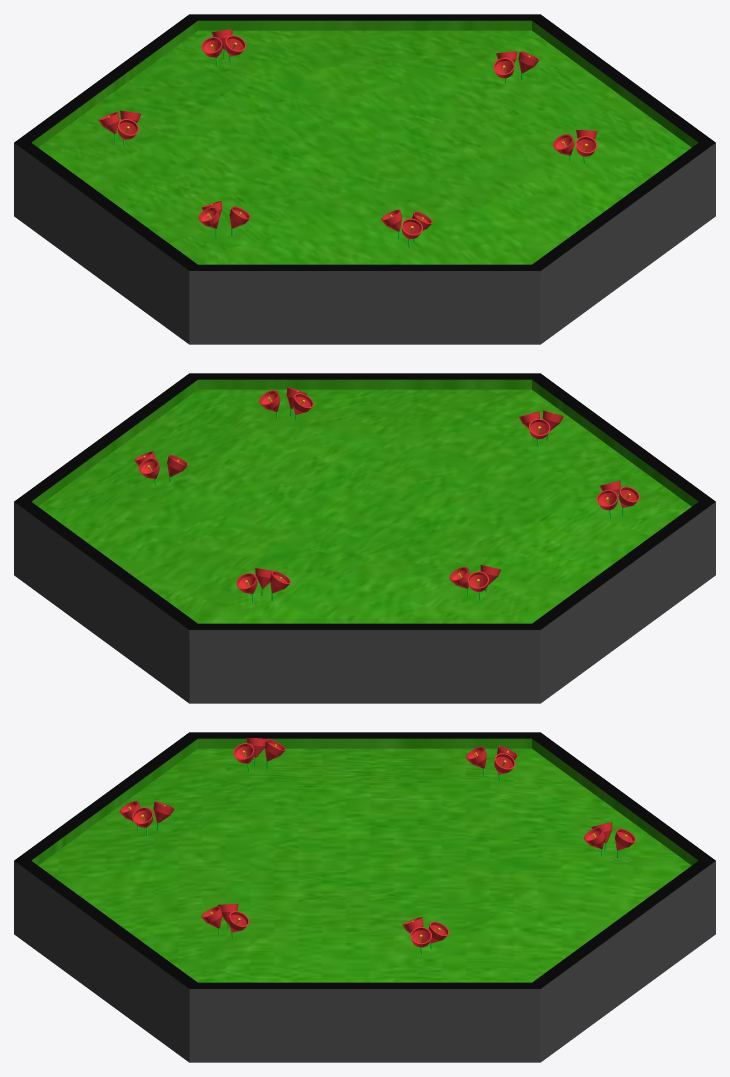
File: FlowerHex.fbx
3 views of the same model, one above another, from view 1: azimuth 30°, elevation 25°; view 2: azimuth 150°, elevation 25°; view 3: azimuth 270°, elevation 25° (orthographic).
Visible parts, largest first — view 1: Cylinder; view 2: Cylinder; view 3: Cylinder.
Boxes of the visible parts, x1,y1,x2,y2 form: Cylinder: (14,14,715,344); Cylinder: (14,373,715,703); Cylinder: (14,732,715,1062).
Bounding box in the file's own units: 550 × 97.15 × 635.
Materials: 57 (1 with a texture image).
